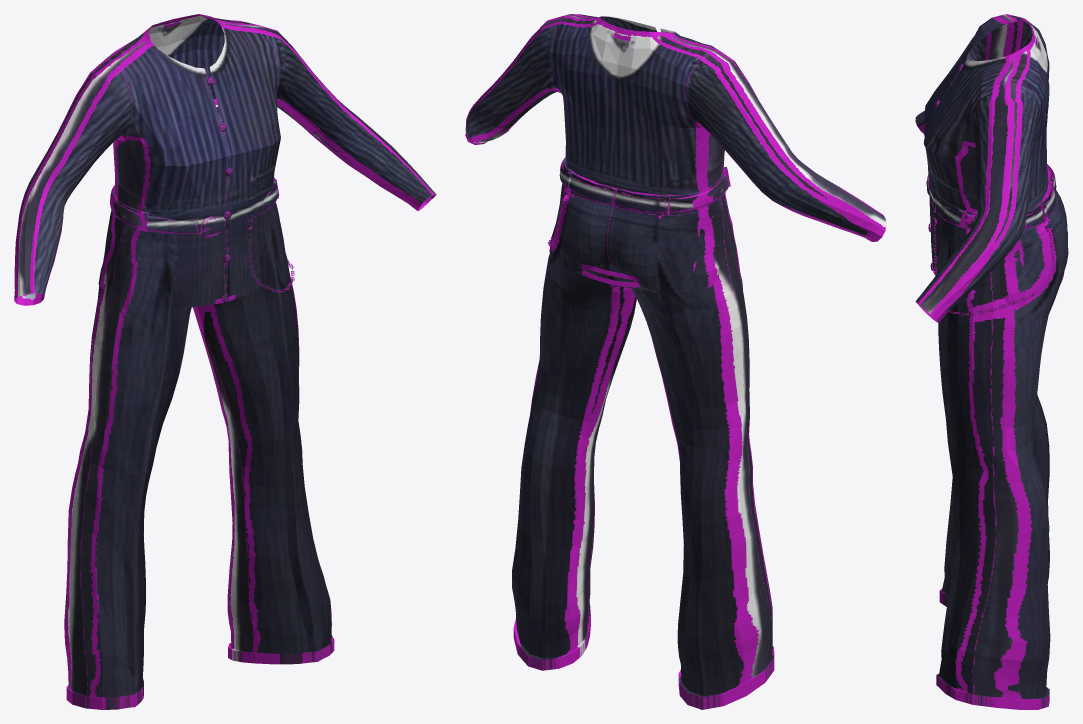
The picture shows the model from 3 angles, left to right: view 1: azimuth 30°, elevation 25°; view 2: azimuth 150°, elevation 25°; view 3: azimuth 270°, elevation 25°; orthographic projection. The views are drawn at different scales.
Size of the model in its own units: 0.5788 by 0.8666 by 0.1897.
Materials: 1 (1 with a texture image).
